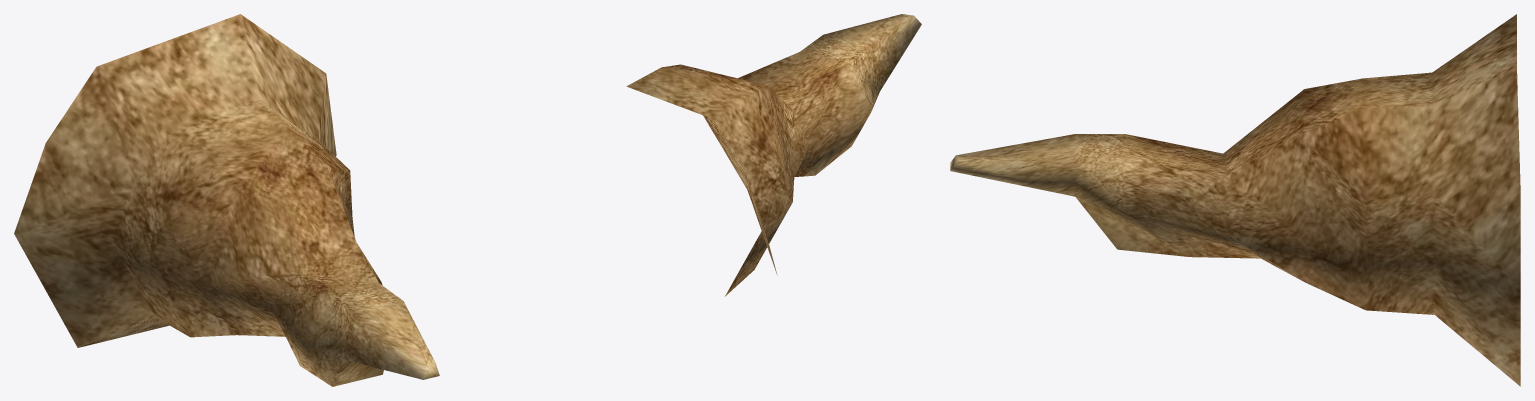
3 renders of one model, left to right at view 1: azimuth 30°, elevation 25°; view 2: azimuth 150°, elevation 25°; view 3: azimuth 270°, elevation 25°, orthographic. The views are drawn at different scales.
Parts seen in each view (by area): view 1: model_Object17; view 2: model_Object17; view 3: model_Object17.
Boxes of the visible parts, bbox=[...] form: model_Object17: bbox=[14, 14, 439, 386]; model_Object17: bbox=[626, 14, 921, 296]; model_Object17: bbox=[950, 14, 1520, 386].
Bounding box in the file's own units: 1.29 × 1.13 × 1.93.
Materials: 1 (1 with a texture image).
